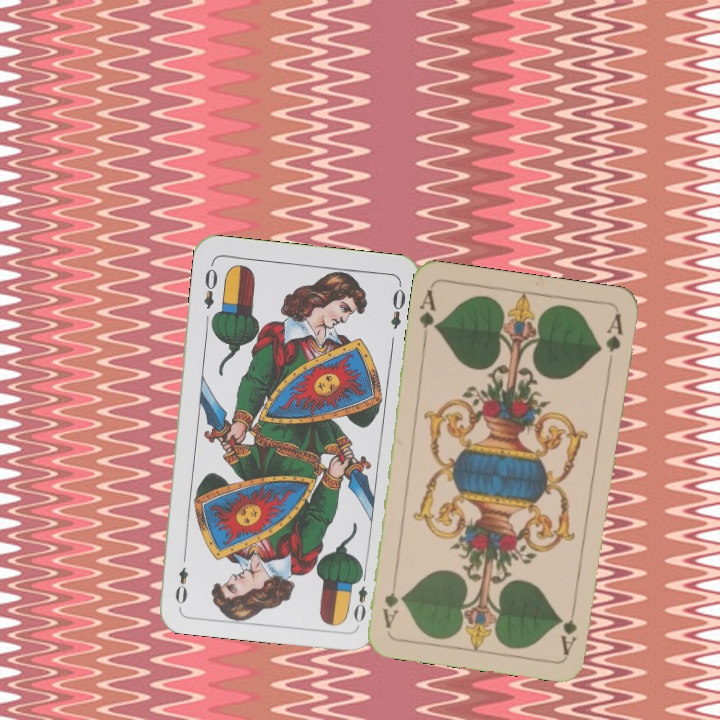EO: (349, 567, 370, 625), (199, 259, 220, 312)
GA: (415, 285, 441, 344), (557, 598, 580, 657)
